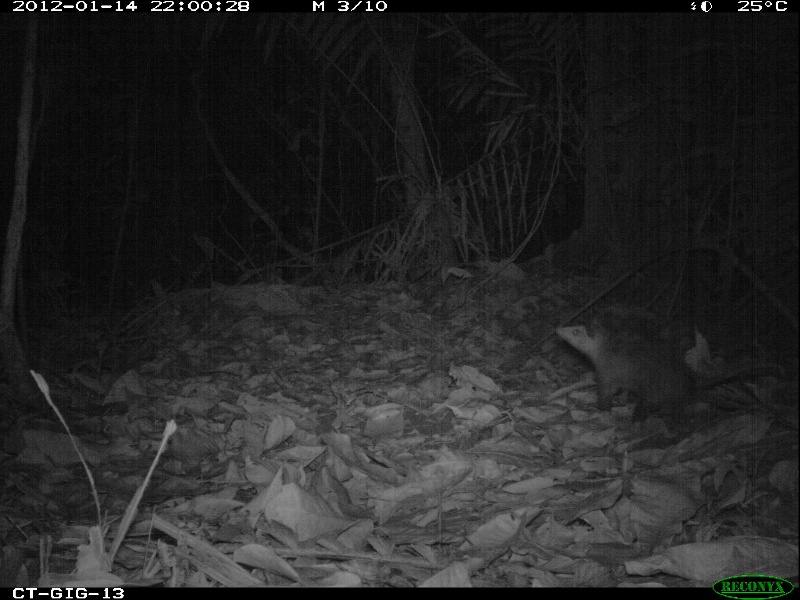opossum: (547, 315, 741, 419)
